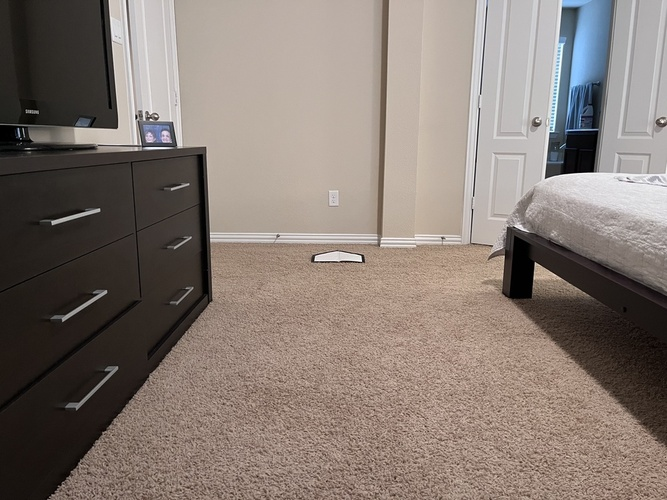homeplate: (311, 249, 365, 263)
